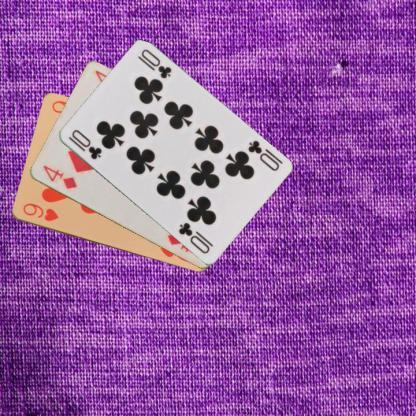10c: (69, 126, 103, 162), (245, 138, 280, 172)
4d: (40, 162, 78, 191)
9h: (20, 200, 61, 223)
